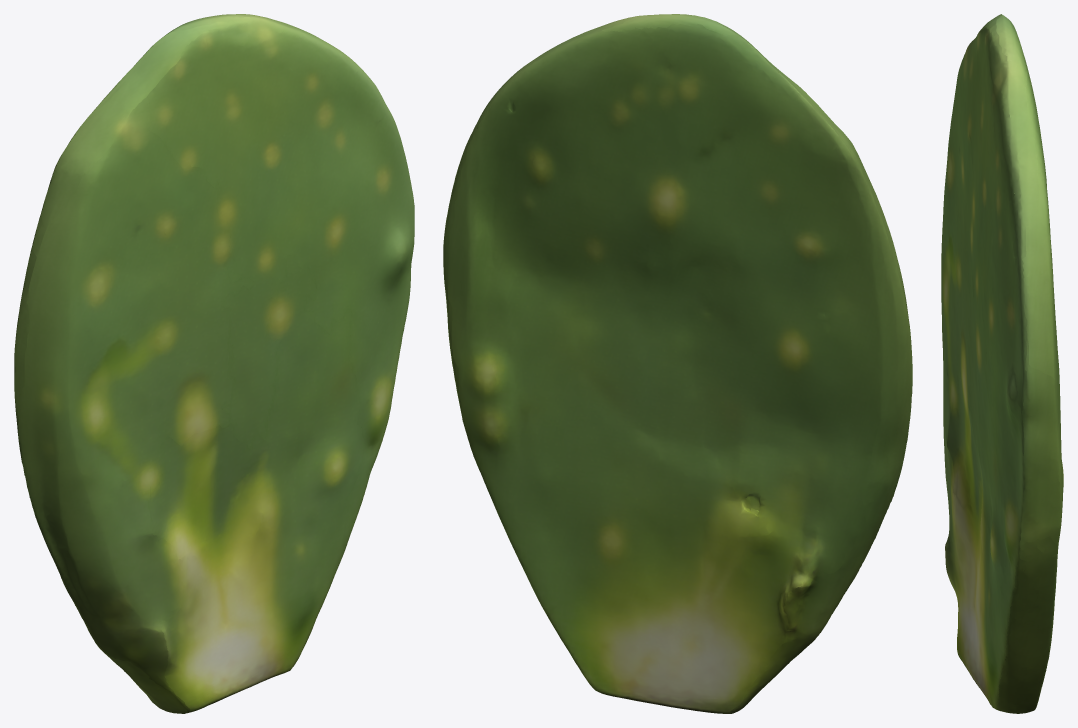
File: nopal.glb
The picture shows the model from 3 angles, left to right: view 1: azimuth 30°, elevation 25°; view 2: azimuth 150°, elevation 25°; view 3: azimuth 270°, elevation 25°; orthographic projection. The views are drawn at different scales.
Visible parts, largest first — view 1: mesh; view 2: mesh; view 3: mesh.
Part boxes in pixels (x1,y1,x2,y2): mesh: [14, 14, 414, 713]; mesh: [443, 14, 912, 713]; mesh: [941, 14, 1063, 713].
Size of the model in its own units: 0.6615 by 1 by 0.1703.
Materials: 1 (1 with a texture image).
